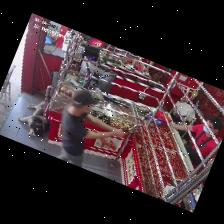person: (58, 90, 126, 167), (188, 124, 216, 158), (138, 57, 157, 66)
